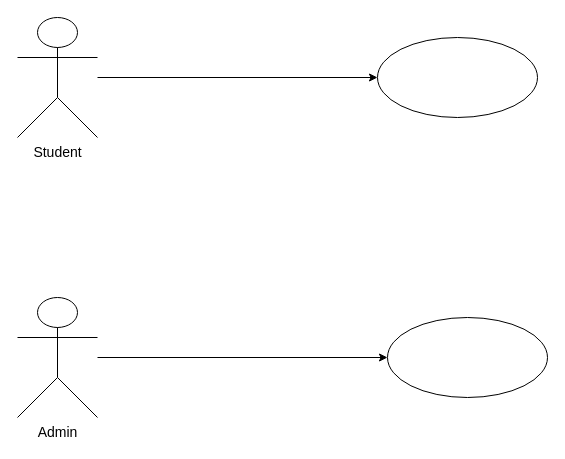
Image size: 565x459. Some labels were removed from this diagram. The shapes that lost their labels are listed below. From the top down, each one's centre as x and y in pixels, then its label:
At point (457, 77): "Đăng kí môn học".
At point (467, 357): "Quản lý lớp học".
